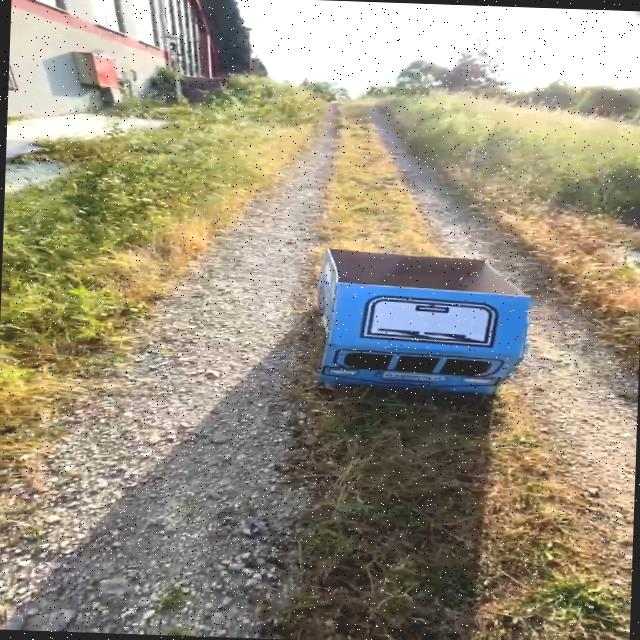blue_car: (251, 212, 592, 429)
